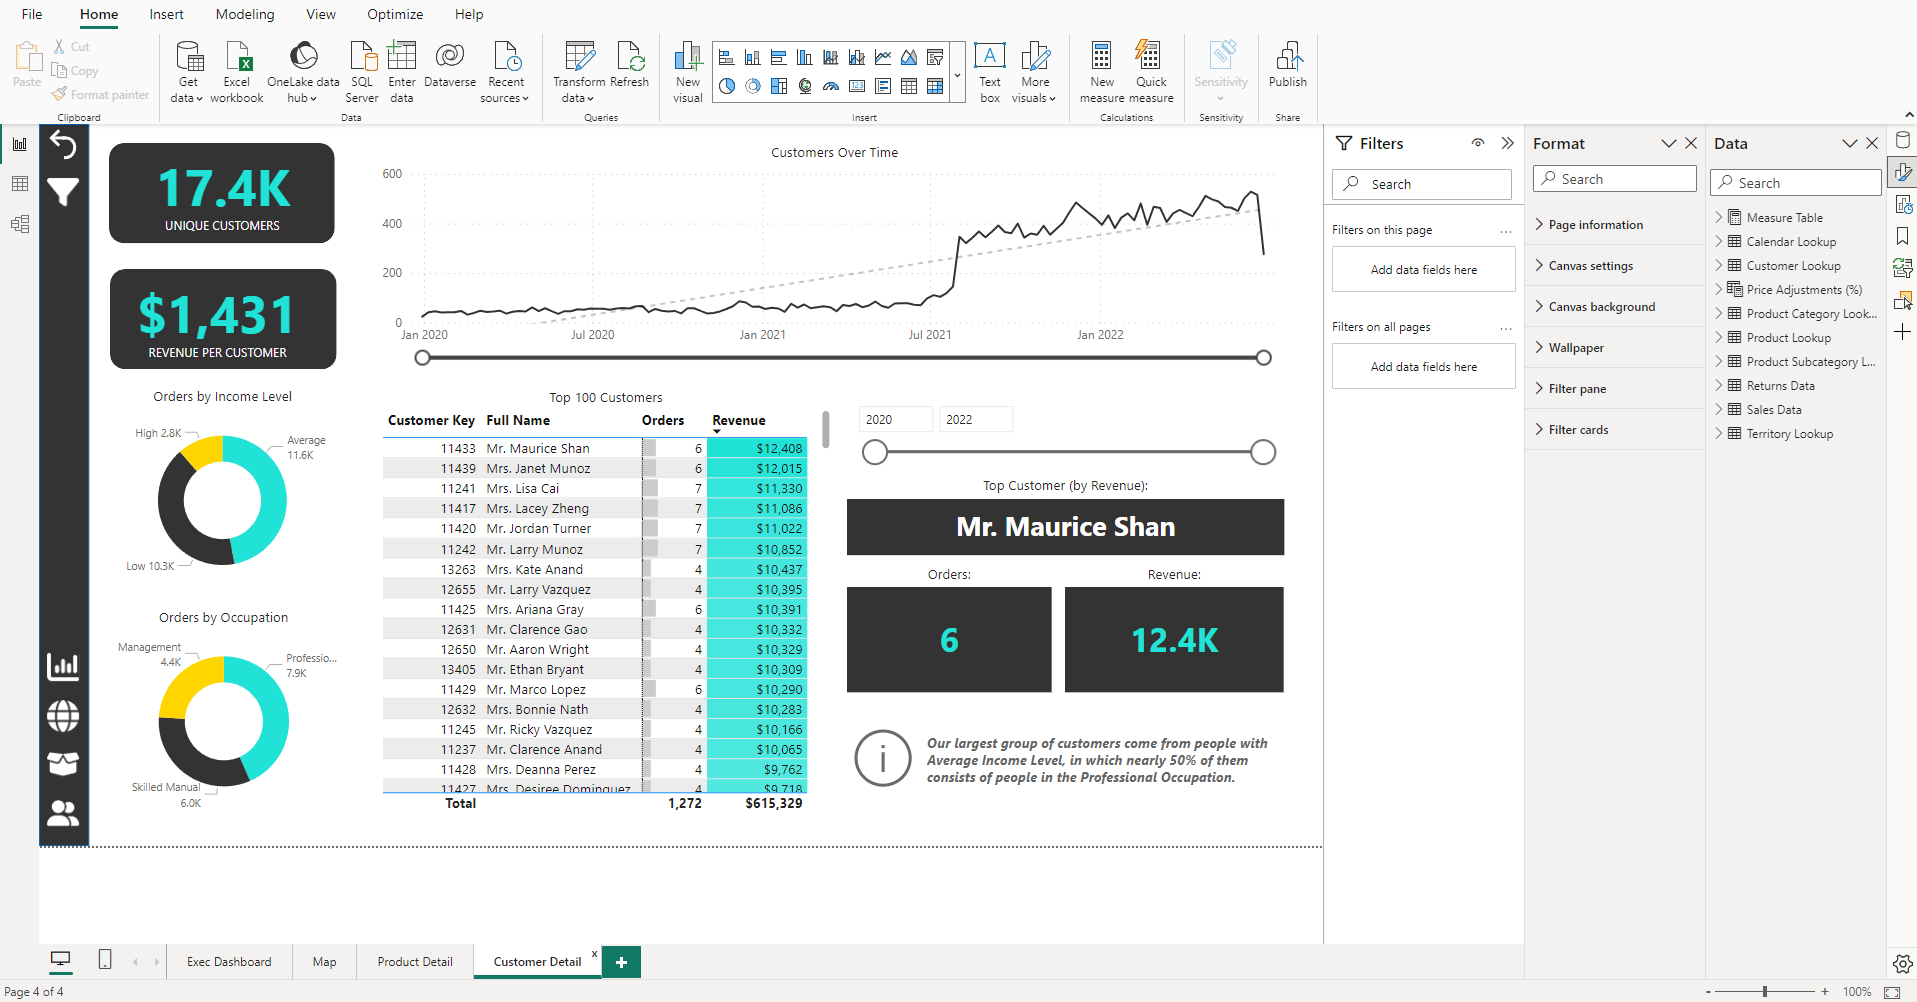

What the dashboard file says about the page in this screenshot:
{"tool":"powerbi","page":{"name":"Customer Detail","canvas":[1280,720],"ordinal":1},"visuals":[{"type":"shape","title":"Left Nav BG","box":[0,0,50,720],"z":0},{"type":"shape","title":"KPI BG 4","box":[69.3,19.1,225,100],"z":0,"group":"g2"},{"type":"group","id":"g1","title":"KPIs","box":[48.5,1.1,262.8,261],"z":1000},{"type":"shape","title":"KPI BG 3","box":[70,144.5,225.6,100],"z":1000,"group":"g2"},{"type":"group","id":"g2","title":"KPI BGs","box":[69.3,19.1,226.3,225.4],"z":2000,"group":"g1"},{"type":"lineChart","title":"Customers Over Time","fields":{"Y":["Measure Table.Total Customers"],"Category":["Calendar Lookup.Date Hierarchy.Start of Year","Calendar Lookup.Date Hierarchy.Start of Month","Calendar Lookup.Date Hierarchy.Start of Week","Calendar Lookup.Date Hierarchy.Date"]},"box":[336.6,19.2,912.6,225],"z":2000},{"type":"donutChart","title":"Orders by Occupation","fields":{"Y":["Measure Table.Total Orders"],"Category":["Customer Lookup.Occupation"]},"box":[62.1,482.4,244.7,209.3],"z":3000},{"type":"donutChart","title":"Orders by Income Level","fields":{"Y":["Measure Table.Total Orders"],"Category":["Customer Lookup.Income Level"]},"box":[62.5,262.5,240.4,208.7],"z":4000},{"type":"card","title":"Total Profit","fields":{"Values":["Measure Table.Average Revenue Per Customer"]},"box":[48.5,126.5,257.8,135.6],"z":5000,"group":"g3"},{"type":"tableEx","title":"Top 100 Customers","fields":{"Values":["Customer Lookup.CustomerKey","Customer Lookup.FullName","Measure Table.Total Orders","Measure Table.Total Revenue"]},"box":[336.6,263.5,456.8,427.9],"z":5000},{"type":"card","title":"Total Revenue","fields":{"Values":["Measure Table.Total Customers"]},"box":[53.3,1.1,258,135],"z":5500,"group":"g3"},{"type":"group","id":"g3","title":"KPI Cards","box":[48.5,1.1,262.8,261],"z":5501,"group":"g1"},{"type":"card","fields":{"Values":["Measure Table.Full Name (Customer Detail)"]},"box":[805.2,373.7,435.8,55.9],"z":6000},{"type":"textbox","box":[805.2,346.2,435.8,38.8],"z":7000},{"type":"card","fields":{"Values":["Measure Table.Total Orders (Customer Detail)"]},"box":[805.1,462,203.9,104.6],"z":8000},{"type":"textbox","box":[805.2,434.3,203.7,38.8],"z":9000},{"type":"card","fields":{"Values":["Measure Table.Total Revenue (Customer Detail)"]},"box":[1023.3,462,218.1,104.6],"z":10000},{"type":"textbox","box":[1023.1,434.3,217.9,38.8],"z":11000},{"type":"slicer","fields":{"Values":["Calendar Lookup.Year"]},"box":[804.9,271.2,436.6,75],"z":12000},{"type":"actionButton","box":[4.4,0,39.9,39.9],"z":13000},{"type":"actionButton","box":[805.1,595.9,75.4,71.8],"z":14000},{"type":"textbox","box":[880.5,603,360.9,72.7],"z":15000}]}

Visuals, with their boxes on the page's 1280x720 design canvas (x1, y1, x2, y2). These are canvas units, not pixel positions in the 1917x1002 screenshot, which may show the page scaled, cropped or inside an application window:
"Left Nav BG" shape: (left=0, top=0, right=50, bottom=720)
"KPI BG 4" shape: (left=69, top=19, right=294, bottom=119)
"KPIs" group: (left=48, top=1, right=311, bottom=262)
"KPI BG 3" shape: (left=70, top=144, right=296, bottom=244)
"KPI BGs" group: (left=69, top=19, right=296, bottom=244)
"Customers Over Time" lineChart: (left=337, top=19, right=1249, bottom=244)
"Orders by Occupation" donutChart: (left=62, top=482, right=307, bottom=692)
"Orders by Income Level" donutChart: (left=62, top=262, right=303, bottom=471)
"Total Profit" card: (left=48, top=126, right=306, bottom=262)
"Top 100 Customers" tableEx: (left=337, top=264, right=793, bottom=691)
"Total Revenue" card: (left=53, top=1, right=311, bottom=136)
"KPI Cards" group: (left=48, top=1, right=311, bottom=262)
card - Measure Table.Full Name (Customer Detail): (left=805, top=374, right=1241, bottom=430)
textbox: (left=805, top=346, right=1241, bottom=385)
card - Measure Table.Total Orders (Customer Detail): (left=805, top=462, right=1009, bottom=567)
textbox: (left=805, top=434, right=1009, bottom=473)
card - Measure Table.Total Revenue (Customer Detail): (left=1023, top=462, right=1241, bottom=567)
textbox: (left=1023, top=434, right=1241, bottom=473)
slicer - Calendar Lookup.Year: (left=805, top=271, right=1242, bottom=346)
actionButton: (left=4, top=0, right=44, bottom=40)
actionButton: (left=805, top=596, right=880, bottom=668)
textbox: (left=880, top=603, right=1241, bottom=676)
